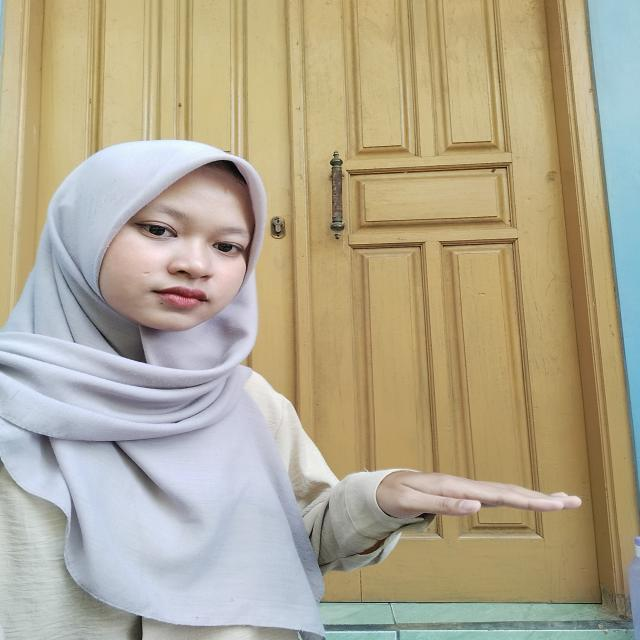adik: (302, 442, 588, 542)
